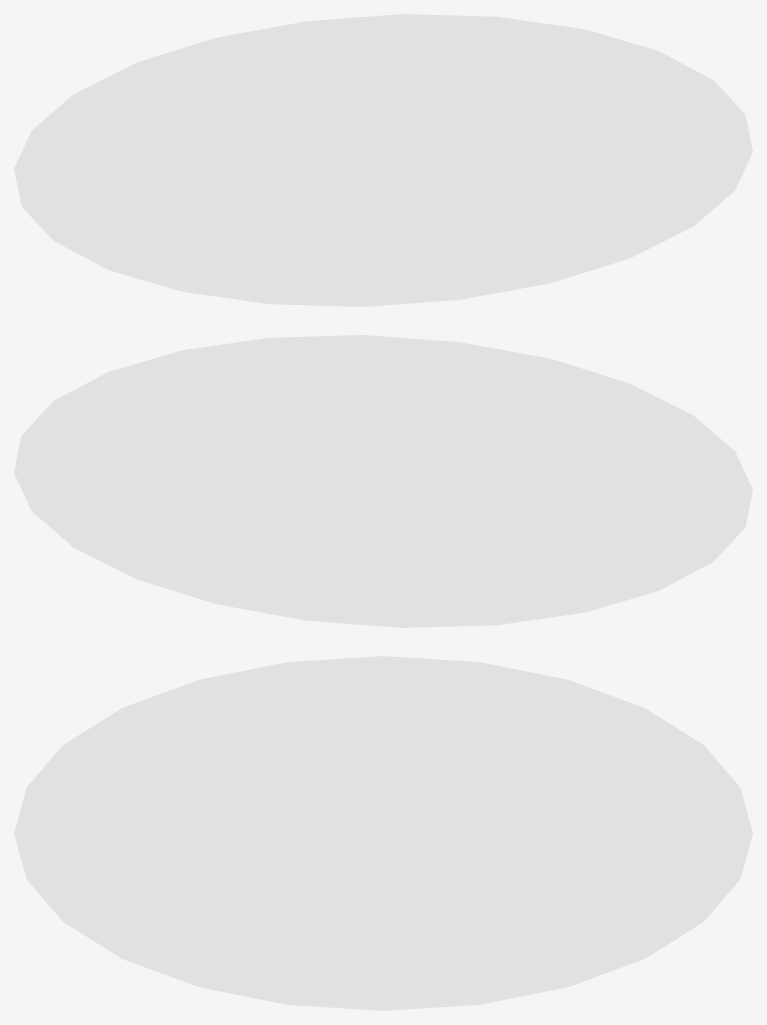
The model's file is original-23.obj.
3 views of the same model, one above another, from view 1: azimuth 30°, elevation 25°; view 2: azimuth 150°, elevation 25°; view 3: azimuth 270°, elevation 25° (orthographic). The views are drawn at different scales.
Visible parts, largest first — view 1: #ID475; view 2: #ID475; view 3: #ID475.
Part boxes in pixels (x1,y1,x2,y2): #ID475: (14,14,752,306); #ID475: (14,335,752,627); #ID475: (14,656,752,1010).
Bounding box in the file's own units: 0.0562 × 0 × 0.0495.
